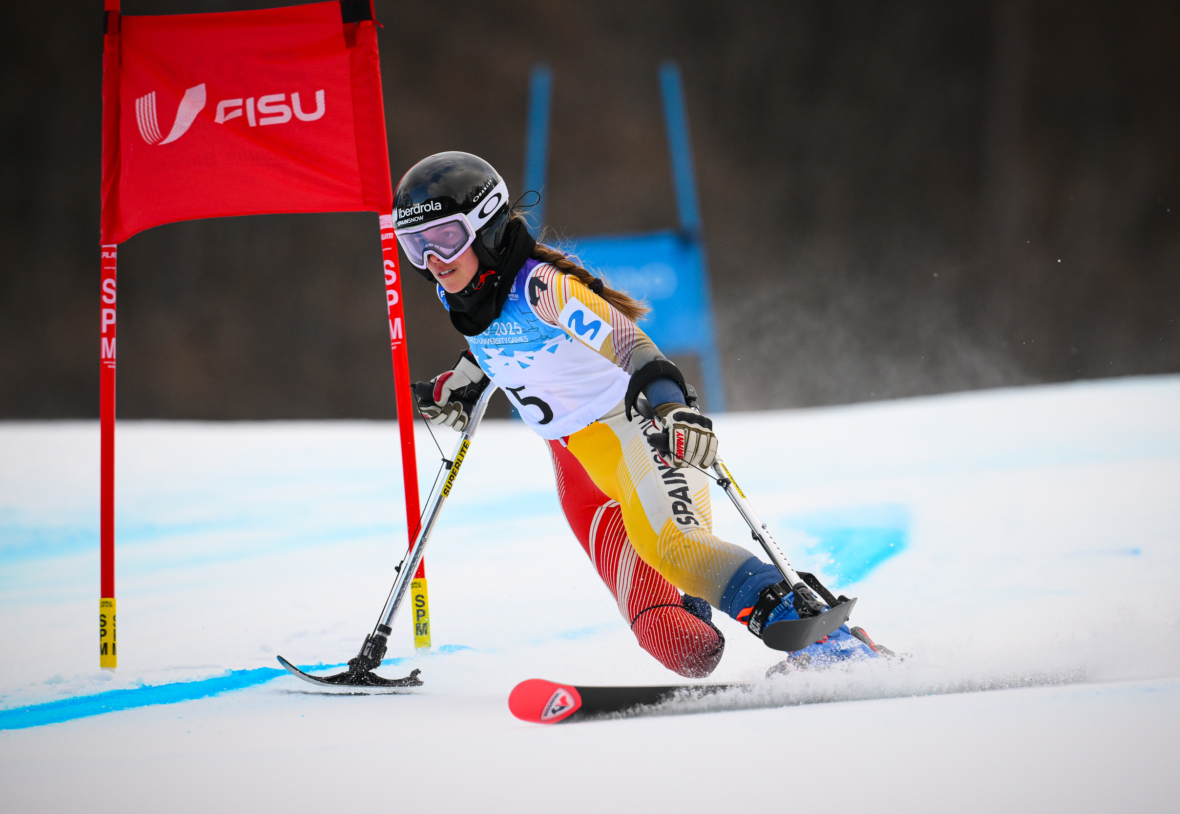skier: (255, 146, 1173, 734)
